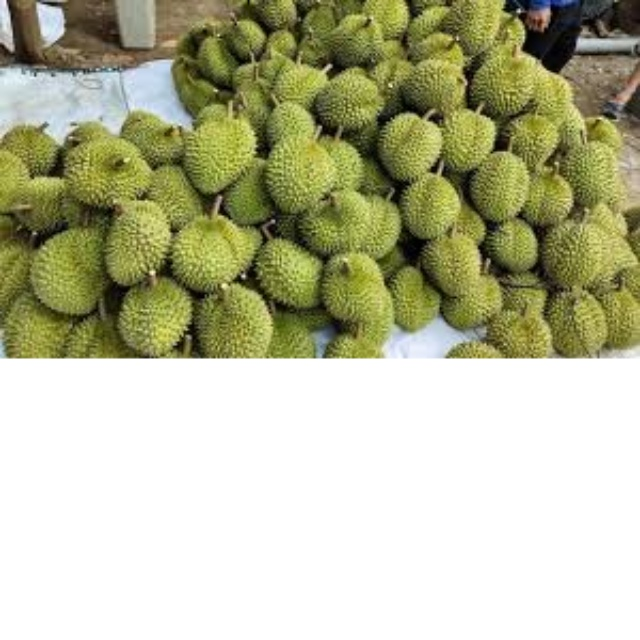sau_rieng: (172, 199, 250, 289), (106, 279, 194, 351), (72, 133, 154, 206), (184, 113, 261, 190), (193, 285, 277, 355), (264, 133, 335, 211), (108, 209, 171, 289), (324, 251, 389, 326), (381, 104, 440, 182), (474, 41, 534, 115), (548, 288, 610, 358), (564, 132, 619, 209), (475, 154, 531, 226), (545, 218, 599, 291), (404, 166, 459, 237), (405, 53, 464, 107), (504, 116, 556, 164)
